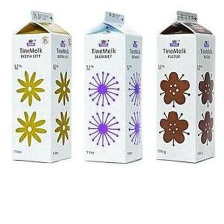carton: (77, 6, 146, 165), (150, 9, 219, 166), (7, 7, 73, 164)
